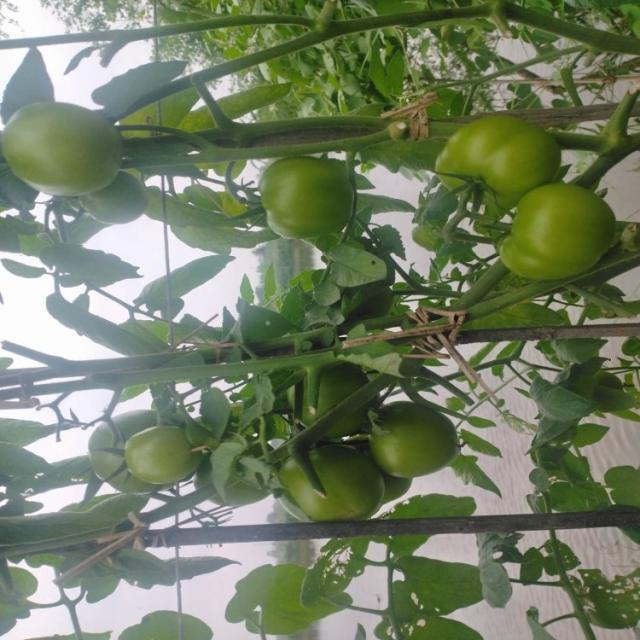tomato: (438, 104, 566, 211), (498, 182, 623, 290), (4, 96, 125, 201), (274, 422, 386, 534), (87, 408, 189, 498), (255, 159, 359, 242), (371, 399, 457, 479), (295, 365, 374, 432), (129, 427, 205, 494)
